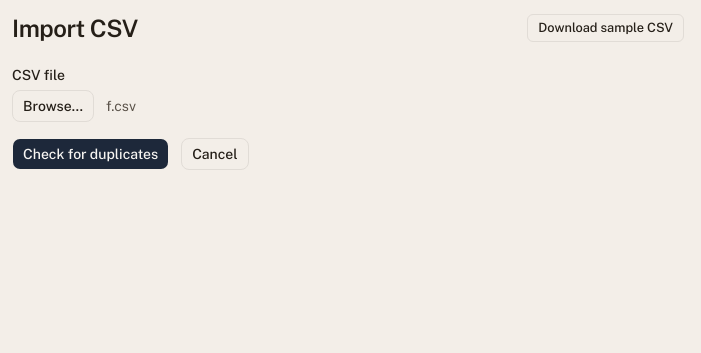
shows a headings hint when no row parses
Earlier steps of the test are not shown.
Click the button "Check for duplicates" at (91, 154), box [12, 138, 169, 170]
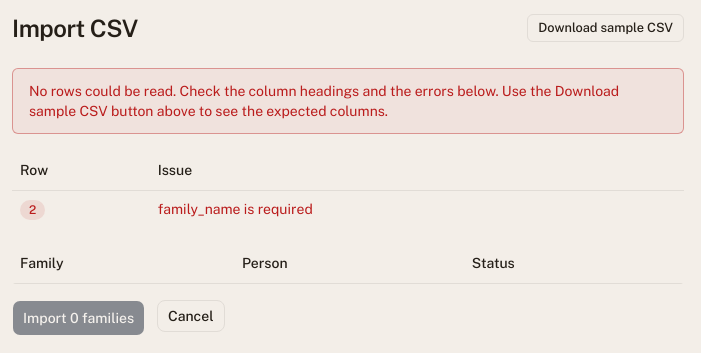
Check: the button "Import 0 families" is shown, box [12, 300, 145, 336]
Check: the text "No rows could be read" is shown, box [29, 83, 619, 119]
